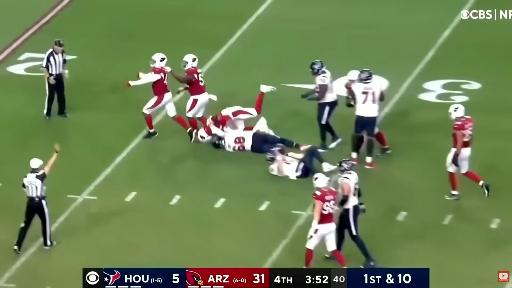Helmet: (449, 104, 465, 119), (313, 173, 329, 188), (183, 54, 198, 69), (310, 60, 325, 75), (151, 53, 167, 67), (197, 128, 211, 142), (358, 70, 373, 83), (339, 159, 353, 172), (211, 136, 224, 148), (266, 151, 276, 163), (347, 71, 359, 81)
Jersey: (351, 82, 382, 116), (313, 188, 337, 224), (339, 171, 359, 208), (316, 70, 337, 102), (452, 116, 473, 147), (269, 156, 299, 177), (224, 131, 254, 151), (186, 68, 205, 96), (152, 68, 169, 96), (206, 114, 229, 134), (345, 79, 354, 88)
Player: (127, 53, 193, 139), (332, 160, 375, 267), (197, 85, 275, 142), (446, 104, 489, 199), (171, 54, 216, 141), (305, 174, 346, 267), (302, 60, 341, 151), (348, 70, 384, 168), (212, 85, 275, 130), (211, 126, 308, 153), (267, 145, 336, 179), (242, 117, 274, 135), (343, 71, 359, 107)
